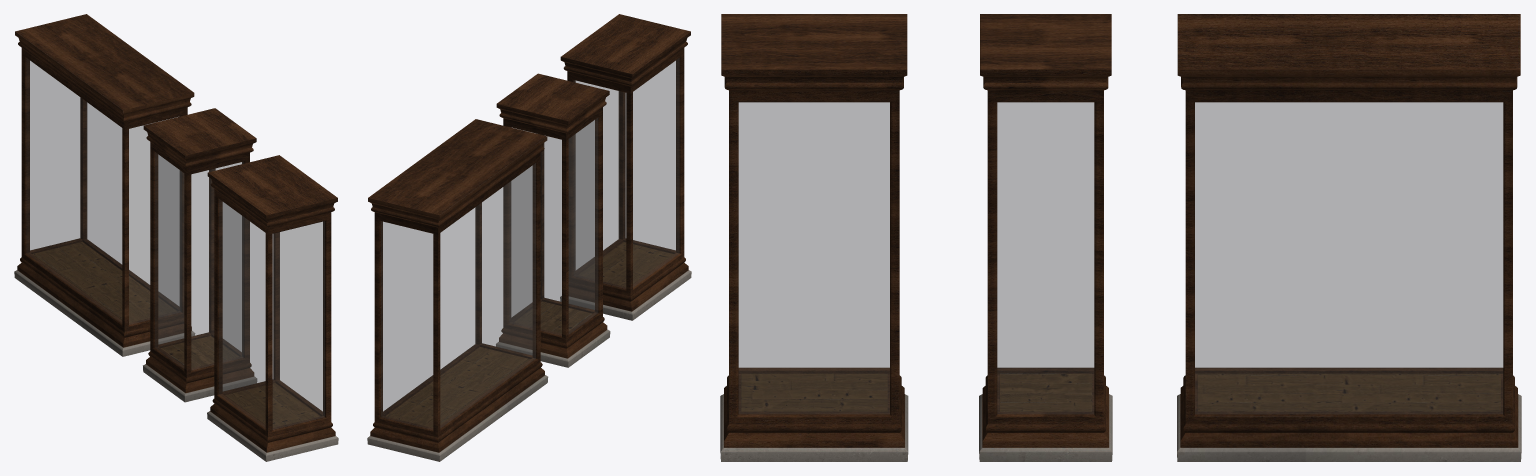
3 renders of one model, left to right at view 1: azimuth 30°, elevation 25°; view 2: azimuth 150°, elevation 25°; view 3: azimuth 270°, elevation 25°, orthographic. The views are drawn at different scales.
Parts seen in each view (by area): view 1: ShowcaseGross_3, Glass.ShowcaseTall_2, Glass.ShowcaseMedium_0, ShowcaseMittel_5, ShowcaseKlein_4, Glass.ShowcaseSmall_1; view 2: Glass.ShowcaseTall_2, ShowcaseGross_3, ShowcaseMittel_5, Glass.ShowcaseMedium_0, ShowcaseKlein_4, Glass.ShowcaseSmall_1; view 3: Glass.ShowcaseTall_2, ShowcaseGross_3, Glass.ShowcaseMedium_0, ShowcaseMittel_5, Glass.ShowcaseSmall_1, ShowcaseKlein_4.
Part boxes in pixels (<box>): ShowcaseGross_3: <box>14,14,195,356</box>; Glass.ShowcaseTall_2: <box>26,58,179,324</box>; Glass.ShowcaseMedium_0: <box>219,199,324,429</box>; ShowcaseMittel_5: <box>207,155,338,461</box>; ShowcaseKlein_4: <box>143,108,257,402</box>; Glass.ShowcaseSmall_1: <box>155,152,243,369</box>; Glass.ShowcaseTall_2: <box>381,163,535,429</box>; ShowcaseGross_3: <box>367,119,548,461</box>; ShowcaseMittel_5: <box>560,14,691,320</box>; Glass.ShowcaseMedium_0: <box>574,58,679,288</box>; ShowcaseKlein_4: <box>496,73,610,367</box>; Glass.ShowcaseSmall_1: <box>511,118,597,335</box>; Glass.ShowcaseTall_2: <box>1195,102,1502,413</box>; ShowcaseGross_3: <box>1177,14,1521,461</box>; Glass.ShowcaseMedium_0: <box>739,102,889,413</box>; ShowcaseMittel_5: <box>720,14,908,461</box>; Glass.ShowcaseSmall_1: <box>997,102,1093,413</box>; ShowcaseKlein_4: <box>979,14,1112,461</box>.
Bounding box in the file's own units: 0.7533 × 2.44 × 4.52.
4 materials, 3 textured.
